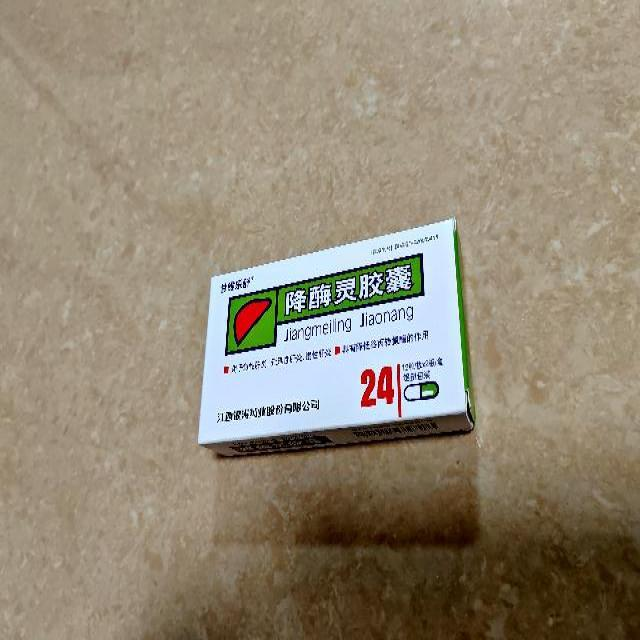box: (196, 216, 476, 459)
